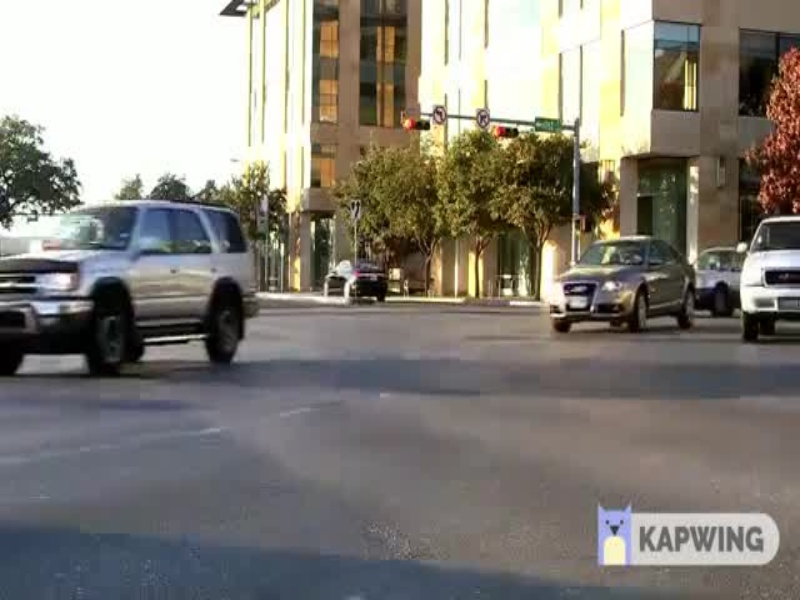car: (541, 227, 695, 340), (314, 259, 401, 304)
suv: (1, 193, 271, 380)
